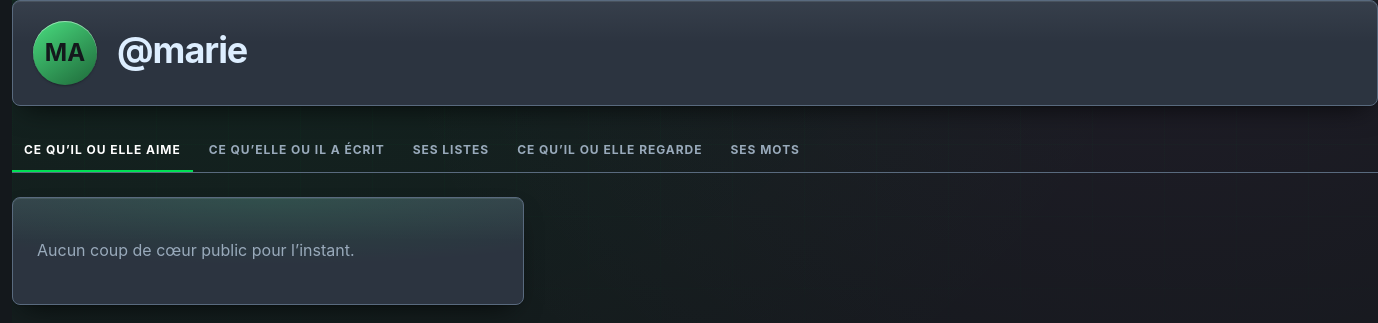
Scenario: l’onglet du journal › un journal vide le dit, sans bouton
Click the tab "Ce qu’il ou elle regarde".
click(610, 151)  # box [505,130,714,172]
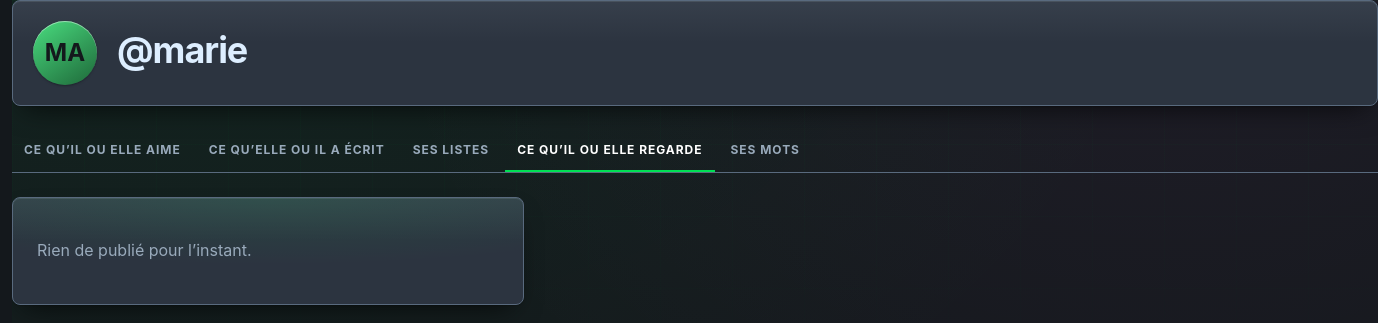
Check: the text "Rien de publié pour l’instant." is shown, box [37,240,252,260]
